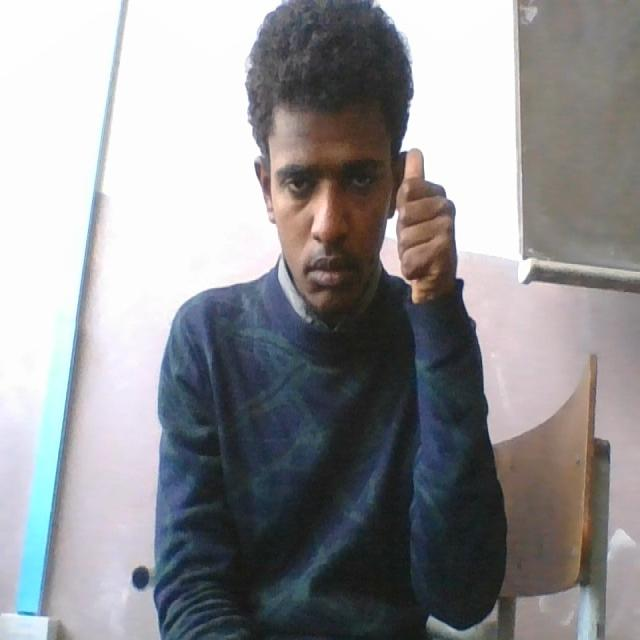agot: (327, 122, 482, 328)
